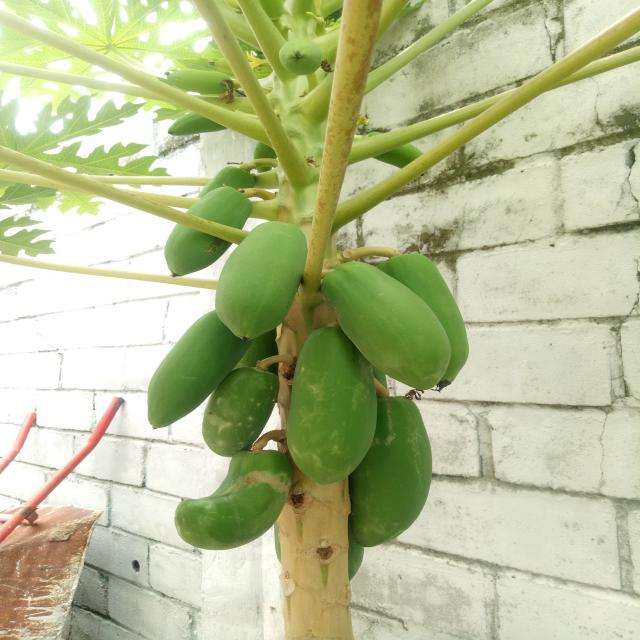Pepaya unrippen: (327, 270, 455, 391), (356, 388, 434, 549), (175, 458, 292, 560), (212, 228, 316, 338), (142, 312, 236, 428), (291, 349, 368, 481), (198, 379, 270, 446)
